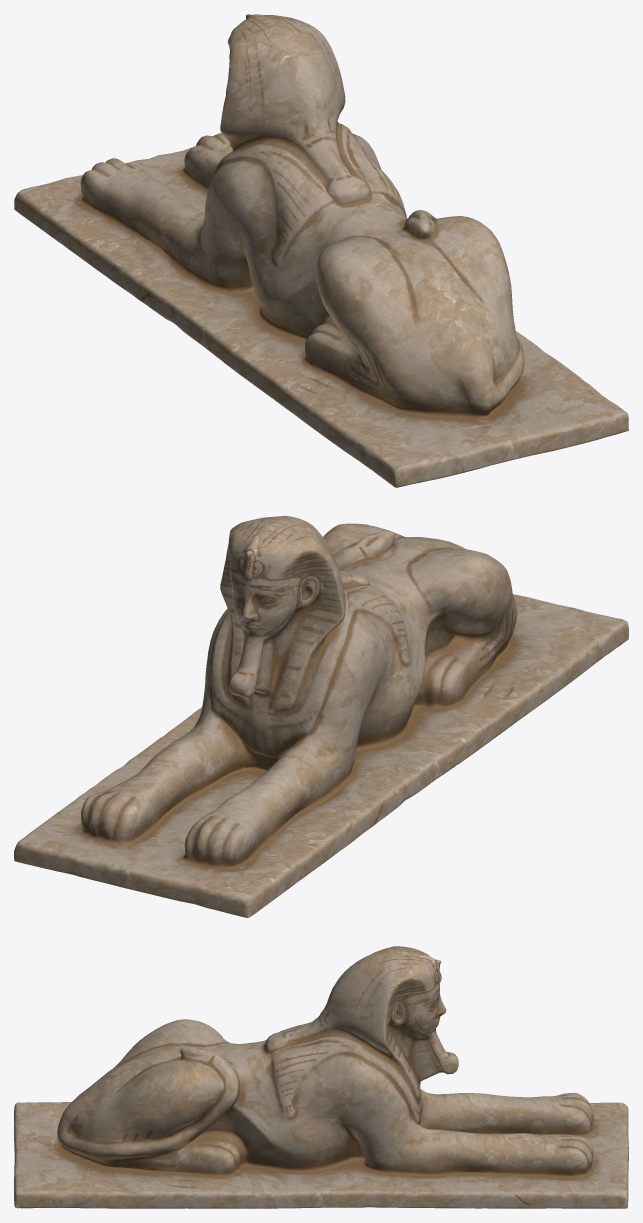
File: sphynx.glb
The picture shows the model from 3 angles, top to bottom: view 1: azimuth 30°, elevation 25°; view 2: azimuth 150°, elevation 25°; view 3: azimuth 270°, elevation 25°; orthographic projection. The views are drawn at different scales.
Visible parts, largest first — view 1: Group39813_1; view 2: Group39813_1; view 3: Group39813_1.
Boxes of the visible parts, <box> form: Group39813_1: <box>14,14,628,487</box>; Group39813_1: <box>14,516,628,917</box>; Group39813_1: <box>14,946,628,1208</box>.
Bounding box in the file's own units: 1 × 1.06 × 2.8.
1 material, 1 textured.
